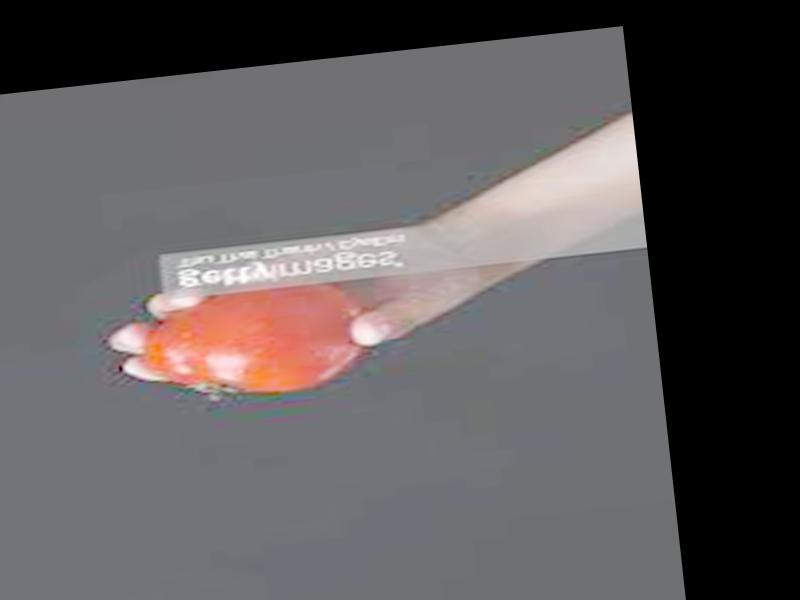Tomato: (130, 274, 363, 407)
